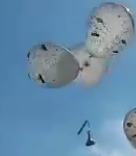Balloon: (85, 3, 134, 58), (27, 44, 81, 89)
